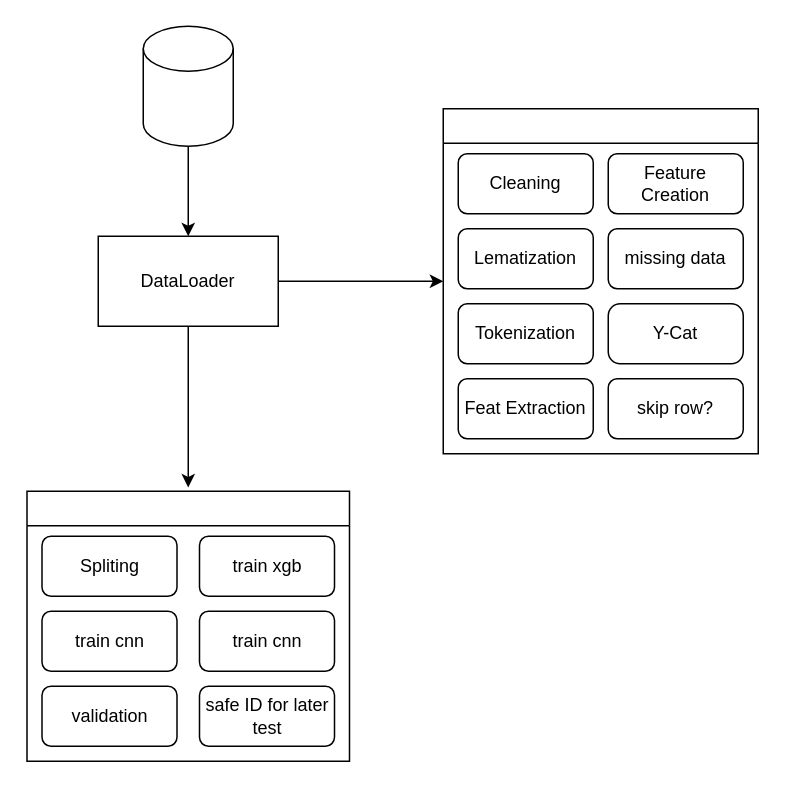
This 785x788 diagram has some shape labels left out. The shapes that lost their labels are listed below. From the top down, each one's box as (x1, y1, x2, y2) in pixels, then its label:
(142, 25, 233, 146): ES
(442, 107, 758, 454): Data Preparation (per row)
(26, 490, 350, 761): train (per batch)
